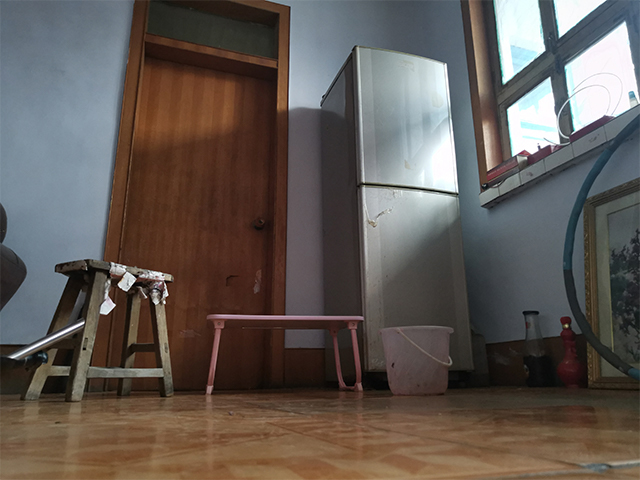stool: (20, 257, 176, 402), (198, 311, 369, 393)
trashcan: (377, 323, 456, 397)
